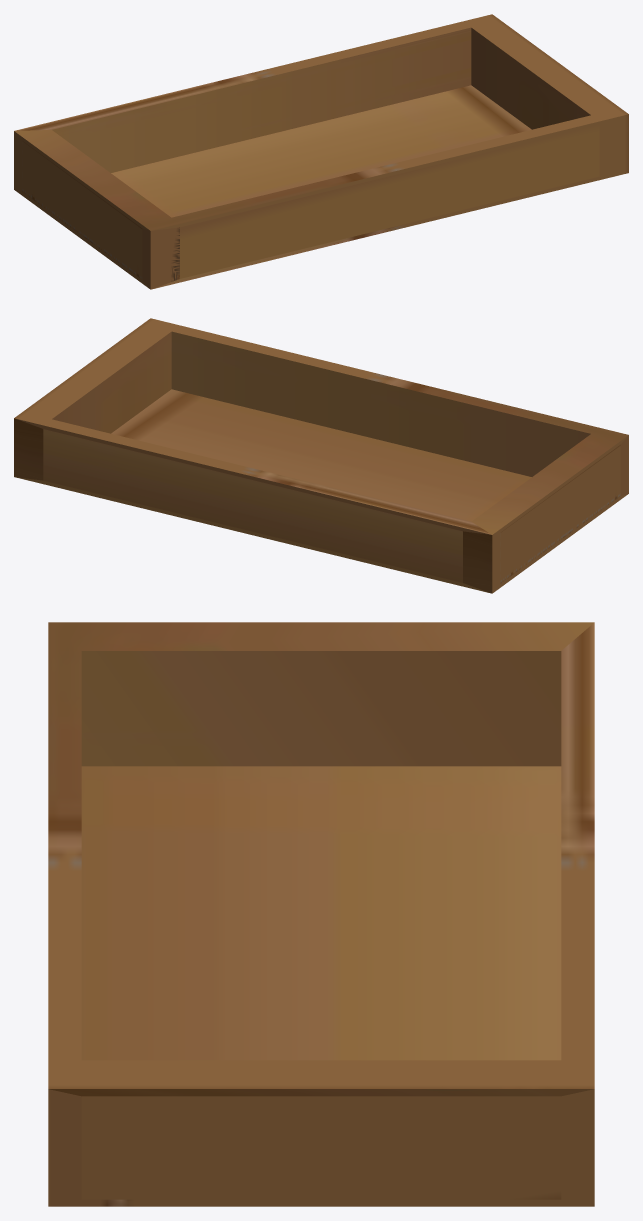
File: guiziSmall.fbx
3 renders of one model, top to bottom at view 1: azimuth 30°, elevation 25°; view 2: azimuth 150°, elevation 25°; view 3: azimuth 270°, elevation 25°, orthographic. The views are drawn at different scales.
Visible parts, largest first — view 1: Cube; view 2: Cube; view 3: Cube.
Boxes of the visible parts, x1,y1,x2,y2 form: Cube: (14, 14, 628, 289); Cube: (14, 318, 628, 593); Cube: (48, 622, 594, 1206).
Size of the model in its own units: 374 by 43.93 by 185.
